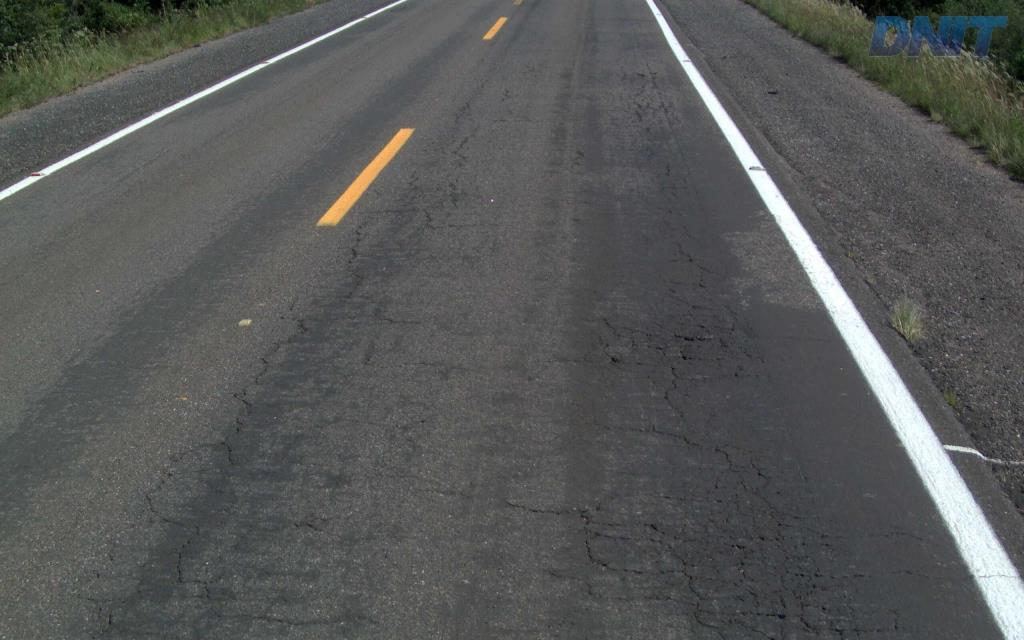crack: (167, 537, 198, 584)
